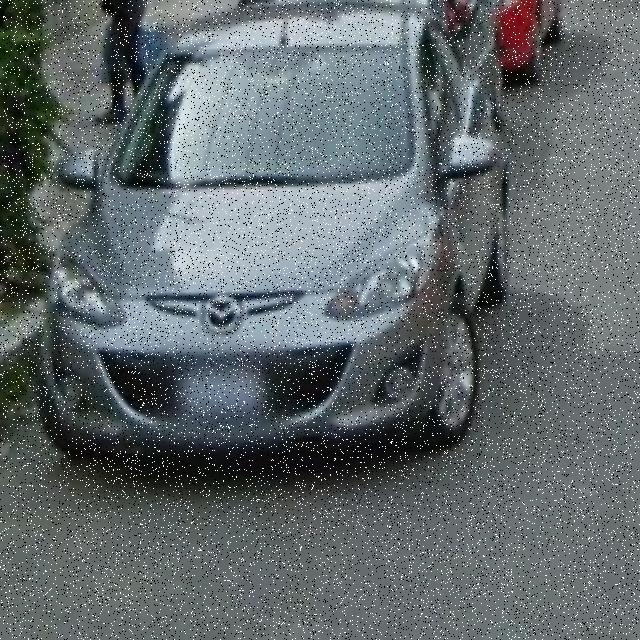cars: (58, 4, 520, 488)
